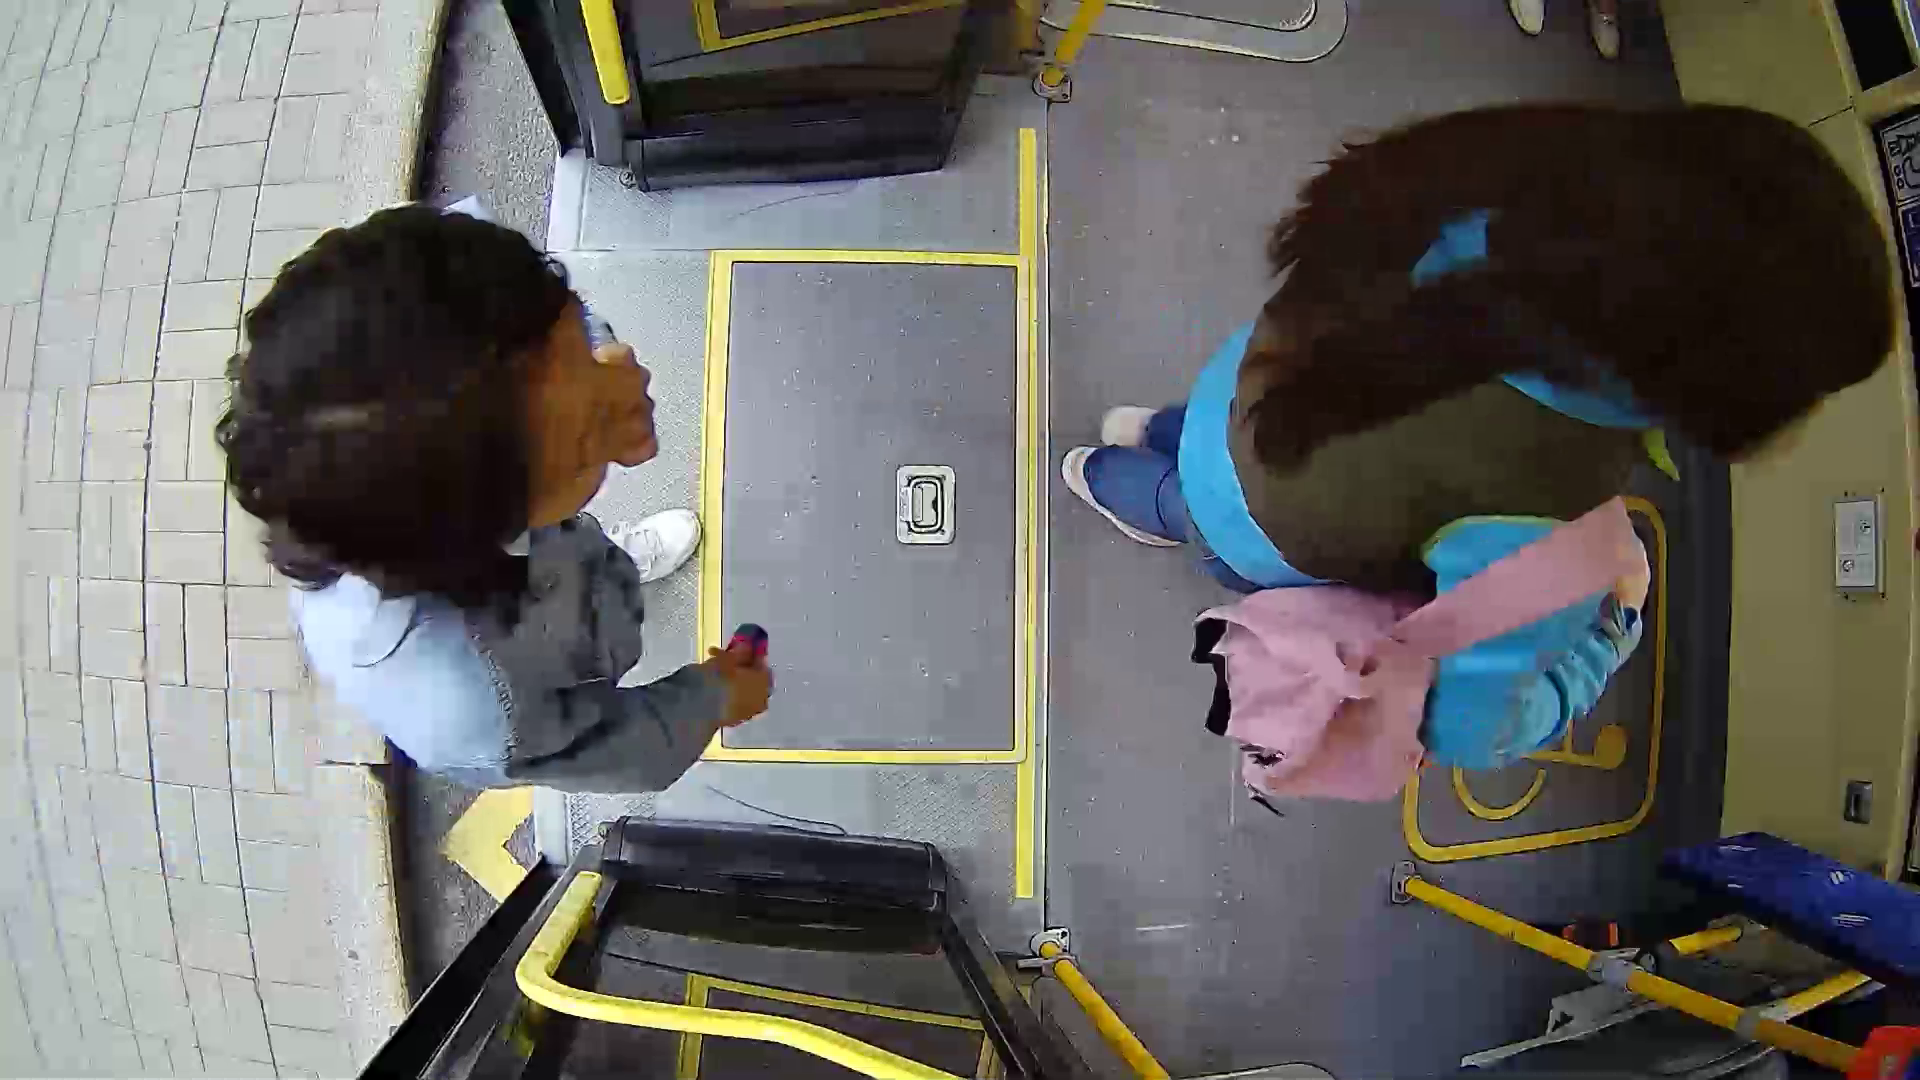person: (1147, 104, 1913, 772), (200, 200, 827, 813)
